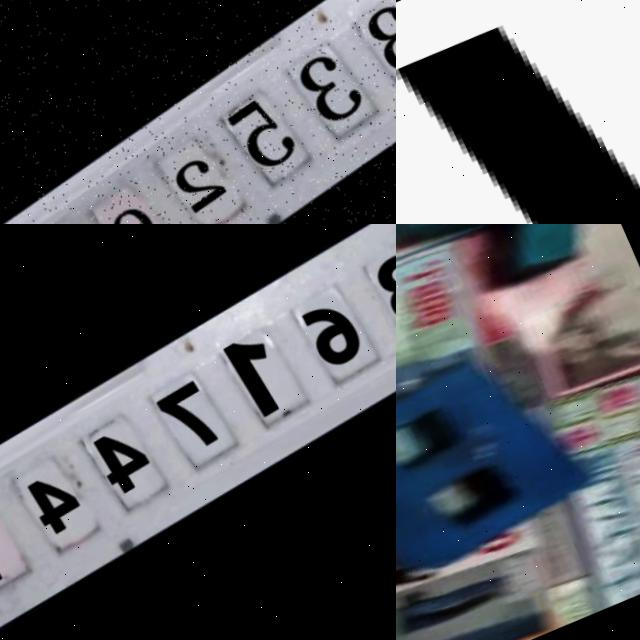0: (88, 167, 186, 224)
1: (215, 307, 314, 423), (0, 486, 35, 592)
2: (149, 117, 251, 224)
3: (280, 23, 384, 140), (346, 0, 396, 90), (357, 226, 396, 334)
4: (75, 396, 173, 511), (8, 442, 103, 554)
5: (214, 68, 318, 188)
6: (286, 270, 384, 383)
7: (144, 356, 242, 467)
B: (396, 326, 592, 592), (396, 24, 640, 224)
P: (396, 224, 627, 310)
